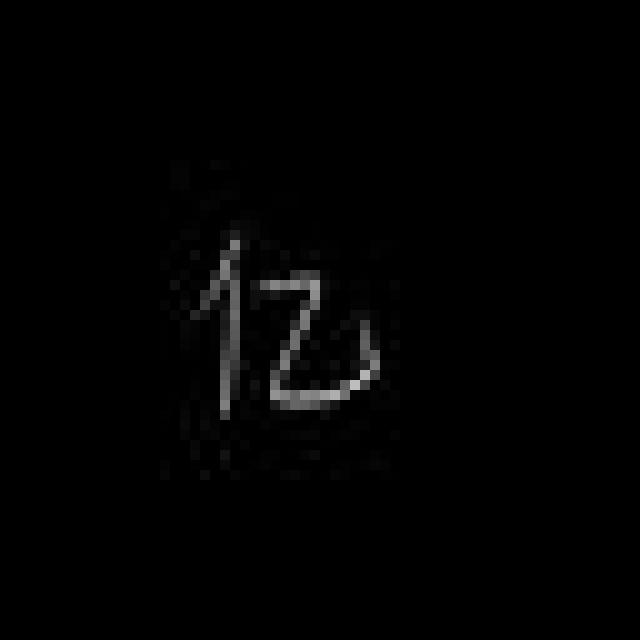100000 -a hundred thousand-: (182, 226, 394, 428)
